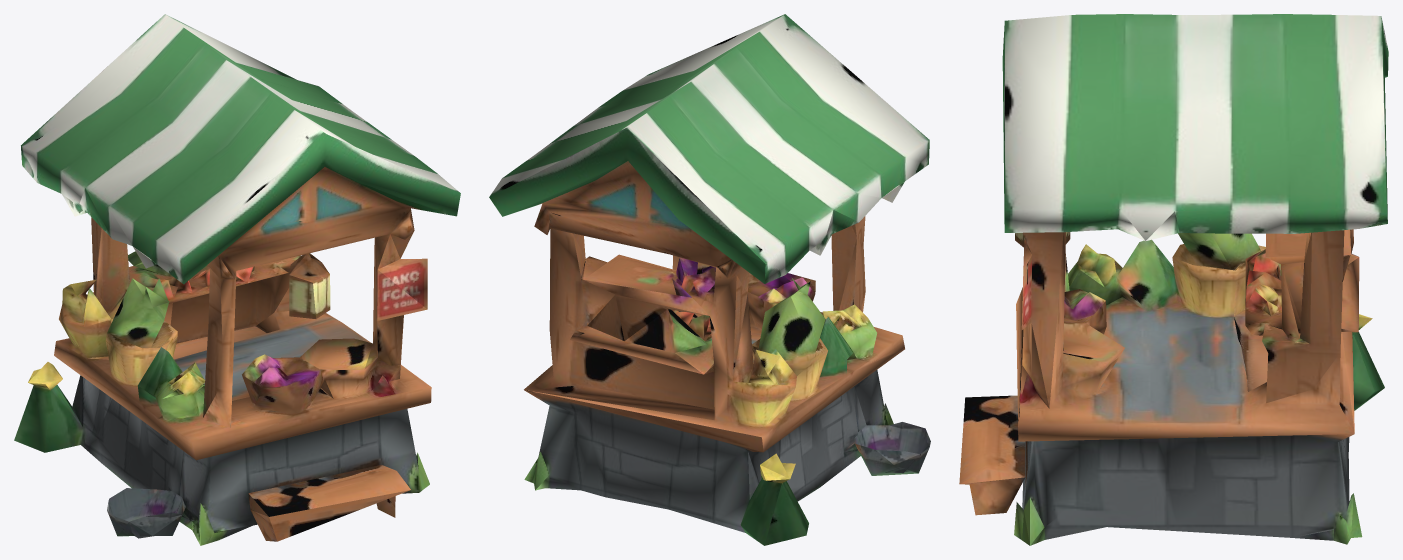
The model's file is awning_stall_3_1500.glb.
3 renders of one model, left to right at view 1: azimuth 30°, elevation 25°; view 2: azimuth 150°, elevation 25°; view 3: azimuth 270°, elevation 25°, orthographic. The views are drawn at different scales.
Visible parts, largest first — view 1: t1500; view 2: t1500; view 3: t1500.
Part boxes in pixels (bbox=[...]): t1500: bbox=[14, 14, 460, 545]; t1500: bbox=[489, 14, 930, 545]; t1500: bbox=[959, 14, 1388, 545].
Size of the model in its own units: 1.6 by 1.92 by 1.59.
Materials: 1 (1 with a texture image).
